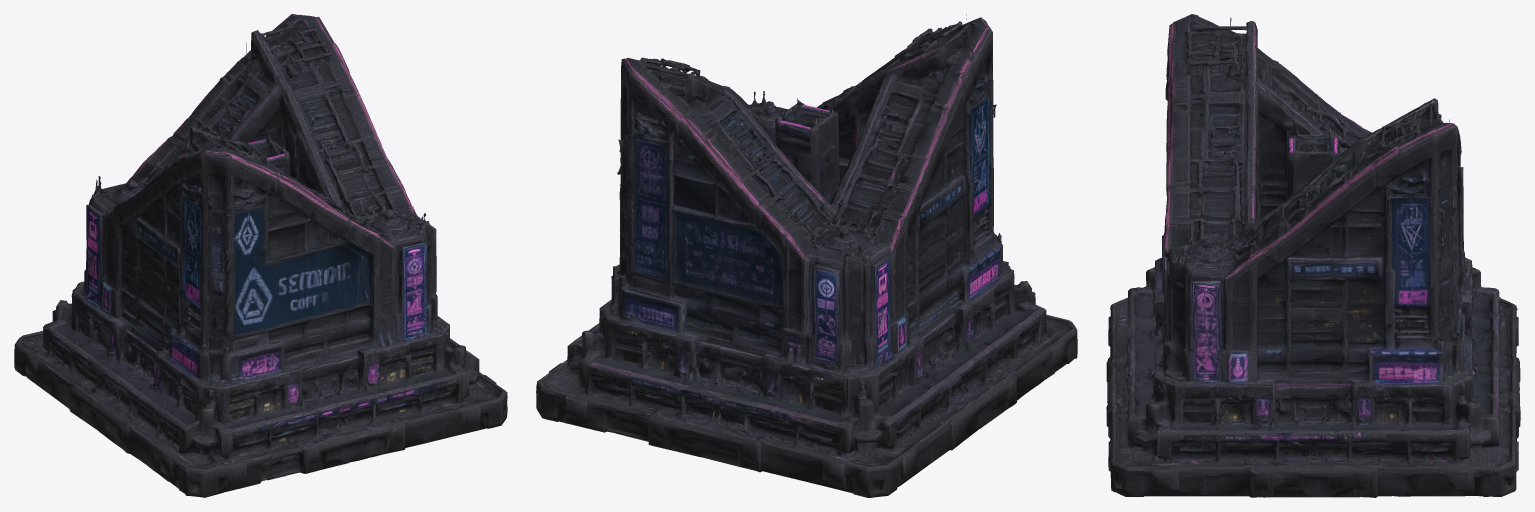
File: S12_building_game.glb
3 renders of one model, left to right at view 1: azimuth 30°, elevation 25°; view 2: azimuth 150°, elevation 25°; view 3: azimuth 270°, elevation 25°, orthographic. The views are drawn at different scales.
Parts seen in each view (by area): view 1: S12_BUILDING_GAME; view 2: S12_BUILDING_GAME; view 3: S12_BUILDING_GAME.
Boxes of the visible parts, box(x1,y1,x2,y2) form: S12_BUILDING_GAME: box(14, 14, 507, 497); S12_BUILDING_GAME: box(536, 14, 1077, 497); S12_BUILDING_GAME: box(1106, 14, 1520, 497).
Bounding box in the file's own units: 53.98 × 50.08 × 53.94.
1 material, 1 textured.
